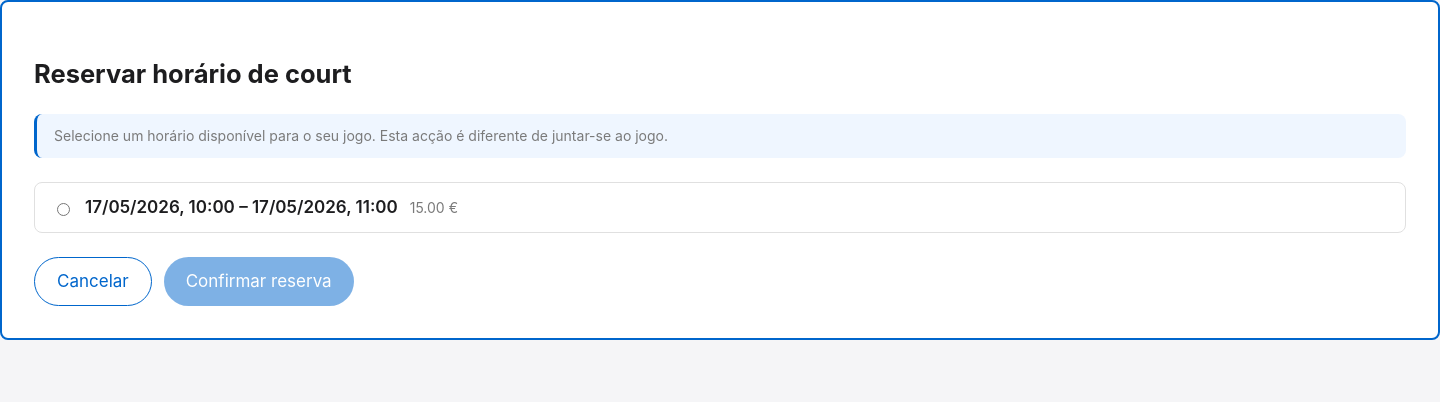
Scenario: BookingFlow integration › 409 slot not available shows error without crashing
This screenshot has width=1440, height=402.
Click the radio button at x=64, y=209, box [57, 203, 70, 216]
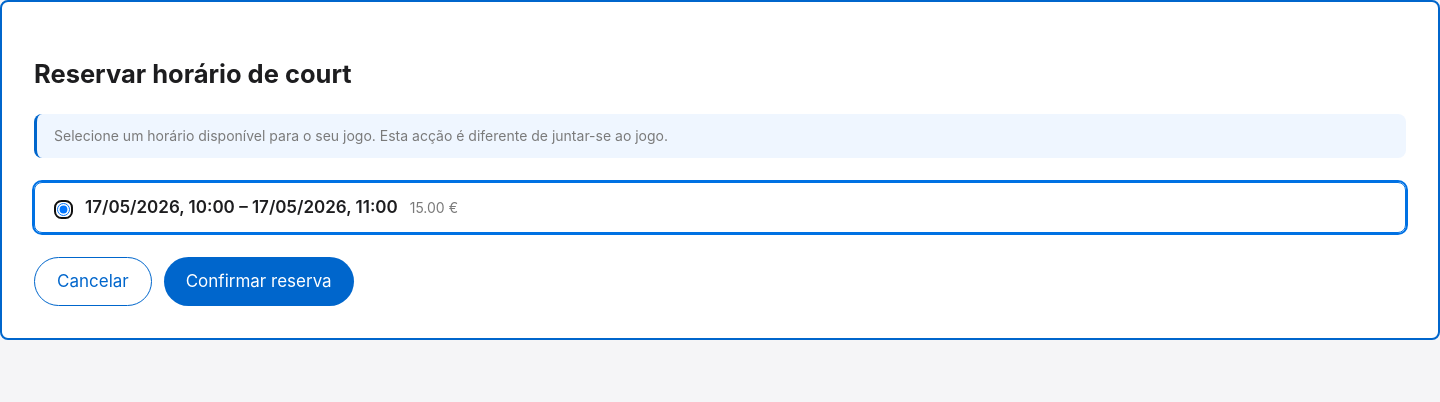
Click the button "Confirmar reserva" at x=259, y=282, box [164, 257, 354, 306]
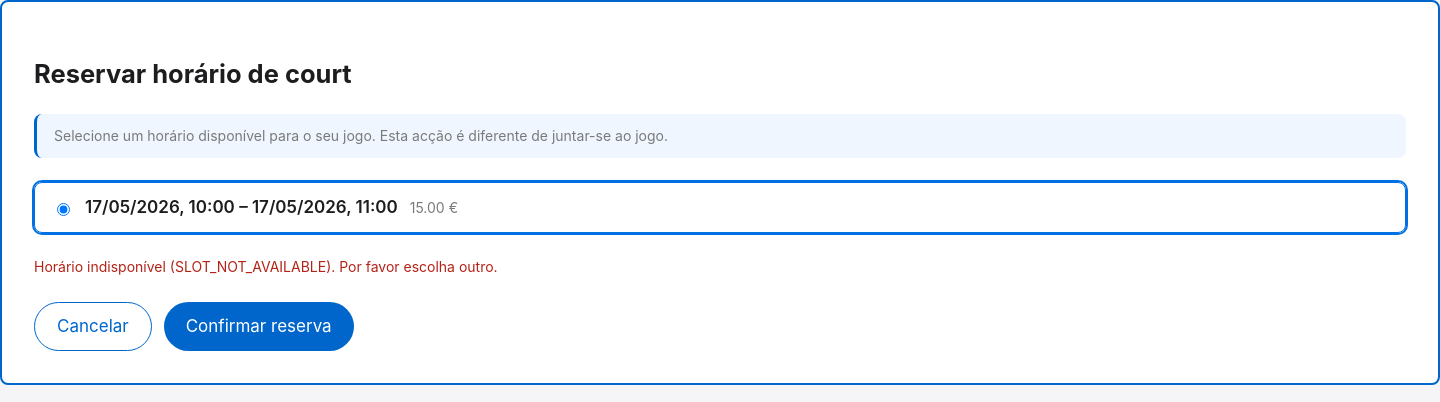
Now the message "Horário indisponível (SLOT_NOT_AVAILABLE). Por favor escolha outro." is shown, box [34, 258, 498, 275]
